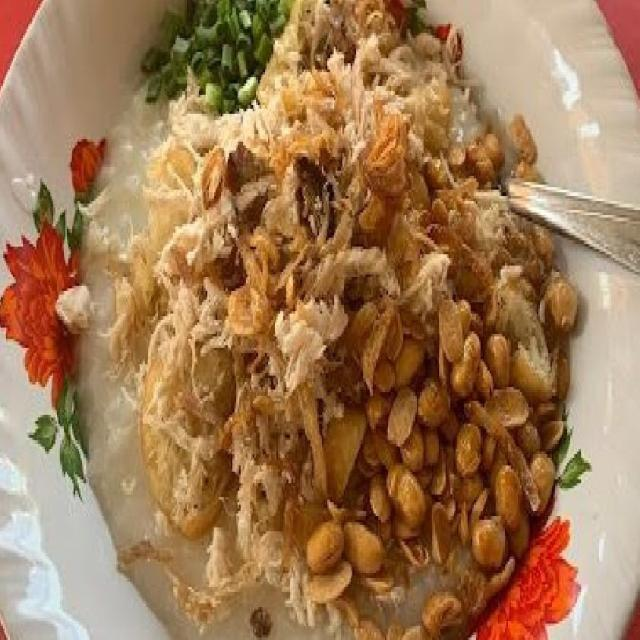bubur ayam: (80, 0, 594, 640)
